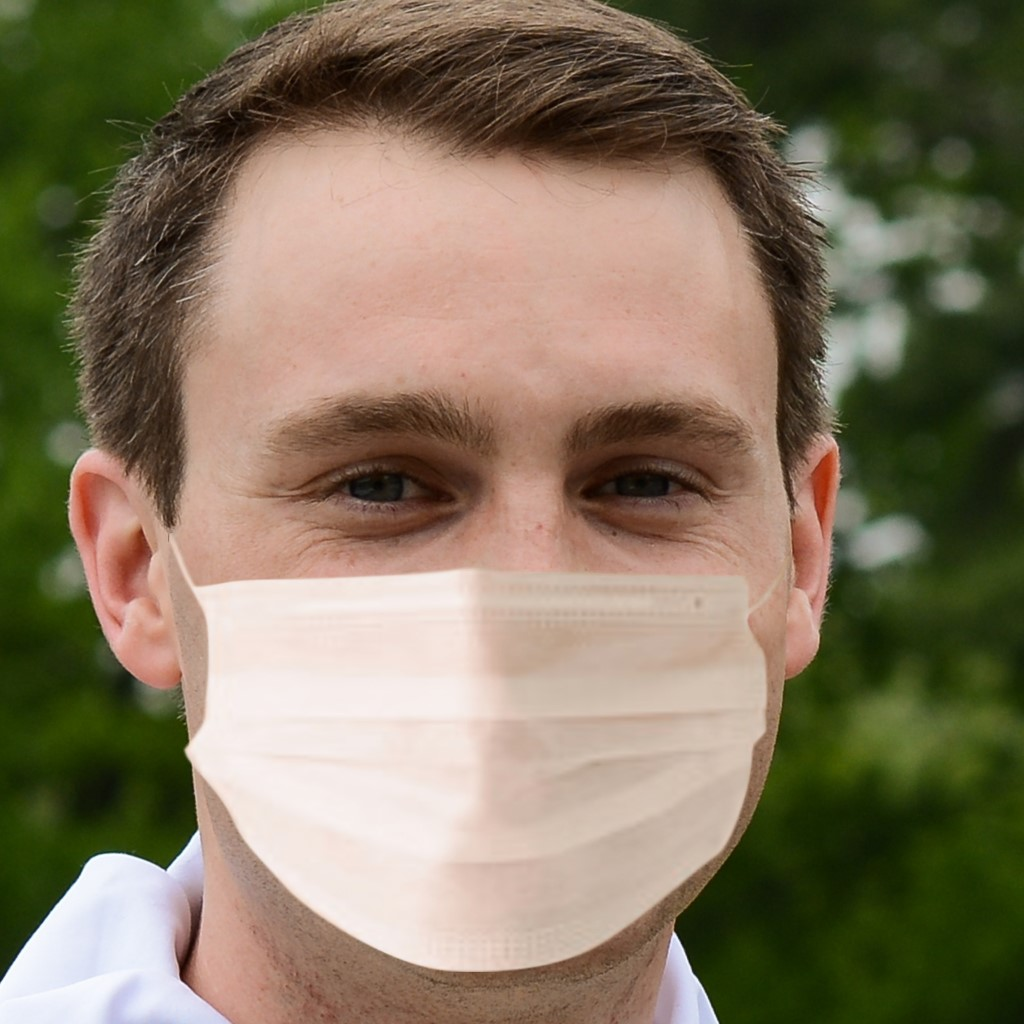con_mascara: (167, 95, 814, 976)
